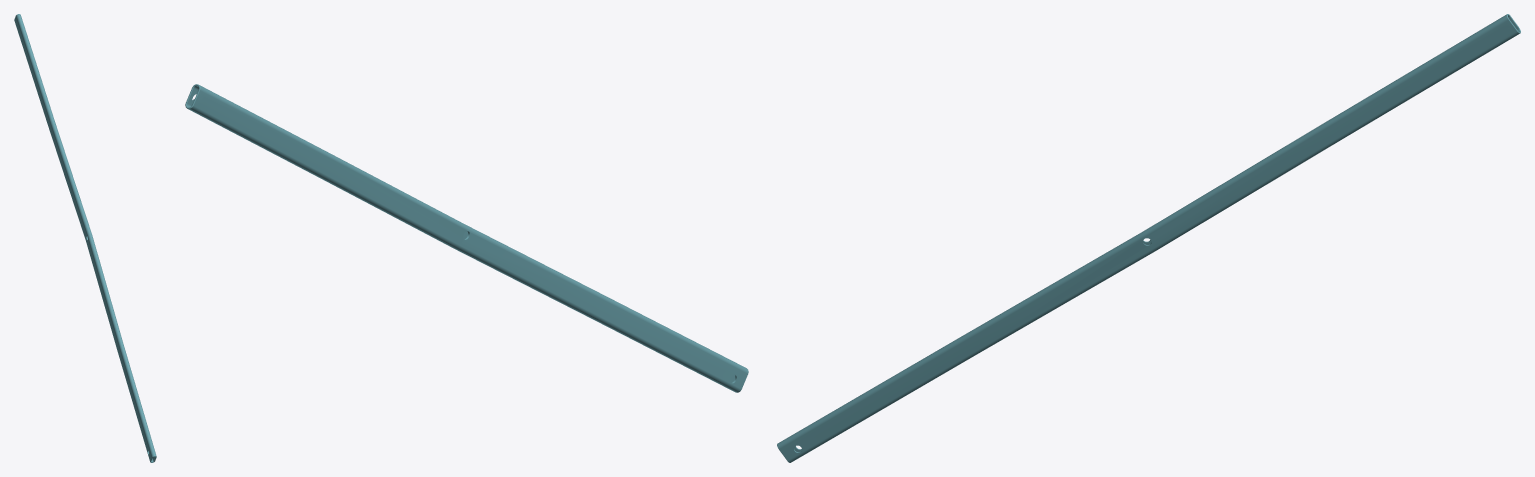
File: table parts_19.fbx
The picture shows the model from 3 angles, left to right: view 1: azimuth 30°, elevation 25°; view 2: azimuth 150°, elevation 25°; view 3: azimuth 270°, elevation 25°; orthographic projection. The views are drawn at different scales.
Visible parts, largest first — view 1: reg_b2; view 2: reg_b2; view 3: reg_b2.
Boxes of the visible parts, x1=… form: reg_b2: x1=14, y1=14, x2=156, y2=462; reg_b2: x1=185, y1=84, x2=748, y2=392; reg_b2: x1=777, y1=14, x2=1520, y2=462.
Bounding box in the file's own units: 2.82 × 10.34 × 13.75.
